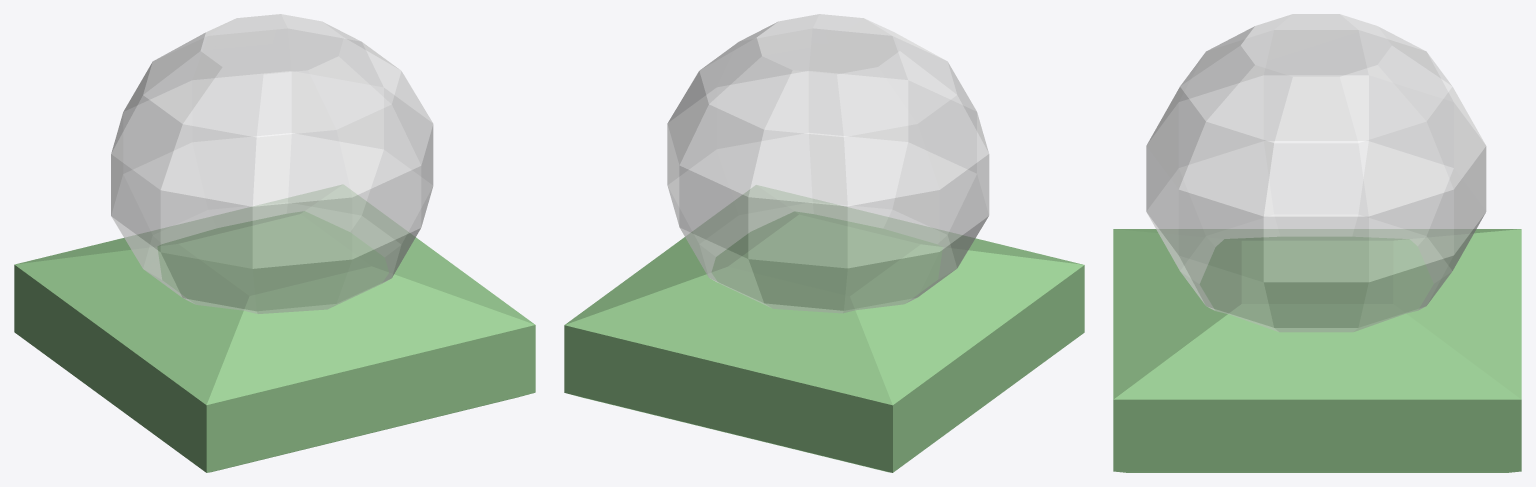
File: car_green.dae
3 views of the same model, side by side, from view 1: azimuth 30°, elevation 25°; view 2: azimuth 150°, elevation 25°; view 3: azimuth 270°, elevation 25° (orthographic). The views are drawn at different scales.
Visible parts, largest first — view 1: car_green_007; view 2: car_green_007; view 3: car_green_007.
Part boxes in pixels (box(x1,y1,x2,y2)): car_green_007: box(14, 14, 535, 472); car_green_007: box(564, 14, 1084, 472); car_green_007: box(1113, 14, 1521, 472).
Bounding box in the file's own units: 0.6202 × 0.6273 × 0.5878.
